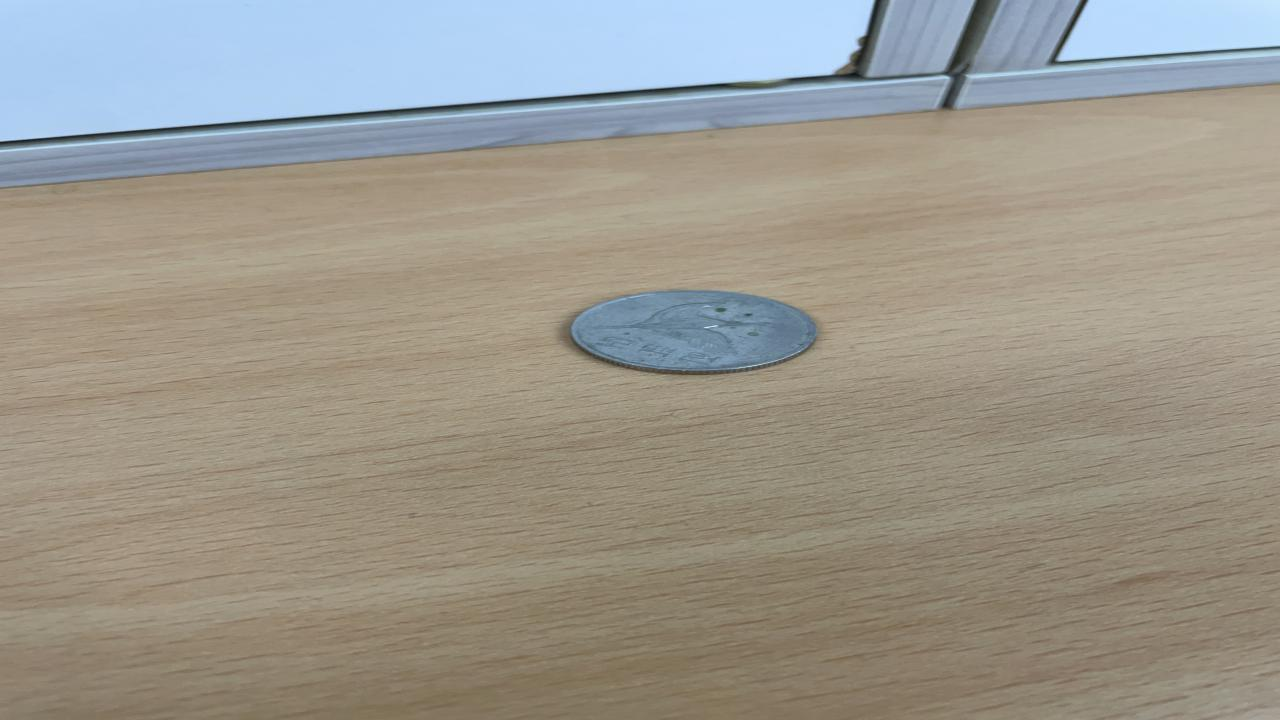coin: (562, 286, 826, 375), (854, 0, 1002, 81)
